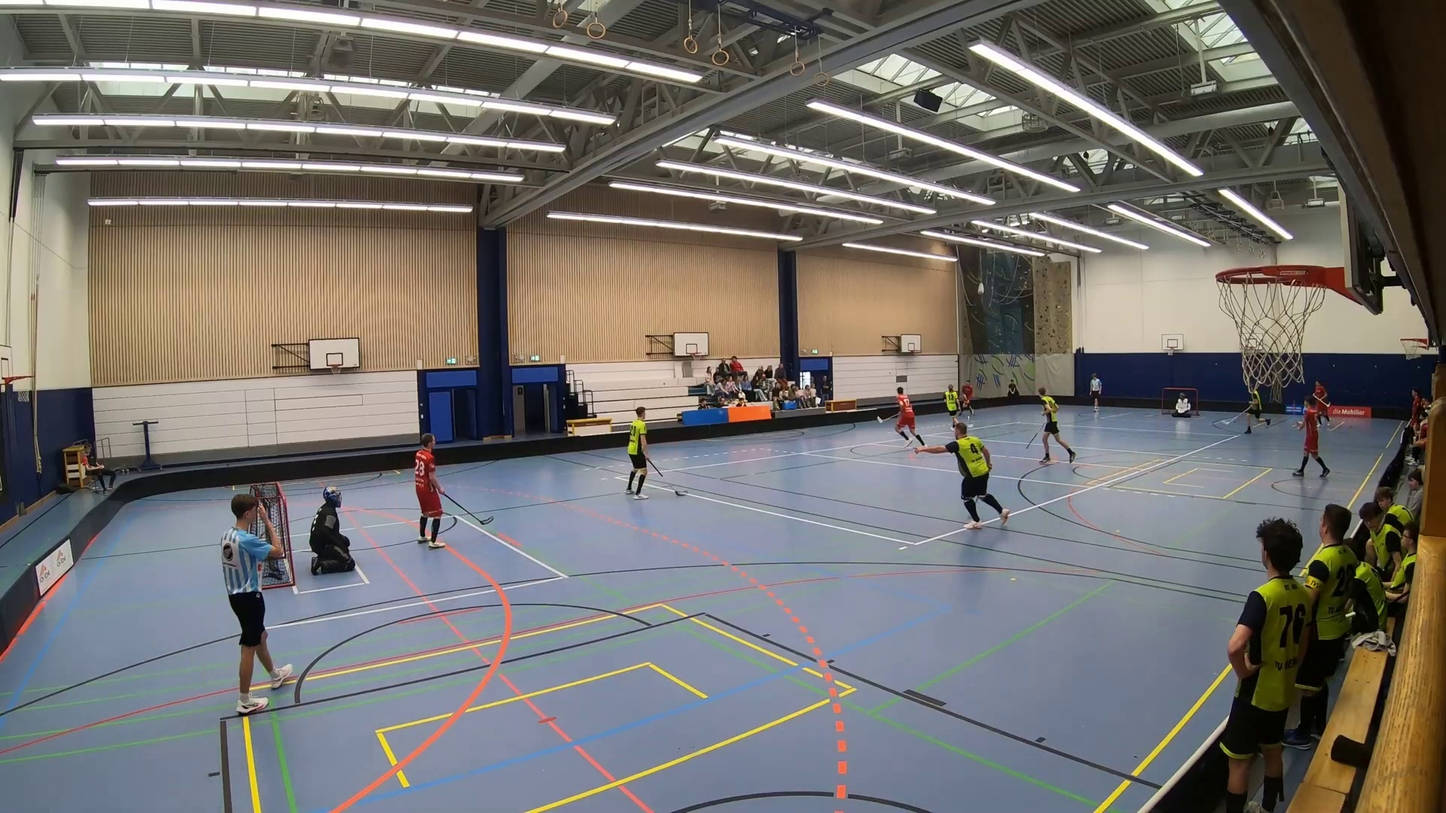Schiri: (199, 479, 301, 718), (1083, 371, 1112, 415)
ball: (967, 415, 971, 420)
goalkeeper: (298, 477, 369, 580), (1170, 391, 1193, 420)
player: (898, 419, 1020, 539), (401, 423, 500, 561), (606, 398, 694, 507), (1020, 376, 1083, 465), (866, 383, 928, 453), (1291, 394, 1334, 486), (1222, 381, 1276, 439), (937, 383, 972, 435), (1309, 379, 1335, 428), (957, 378, 981, 414)
